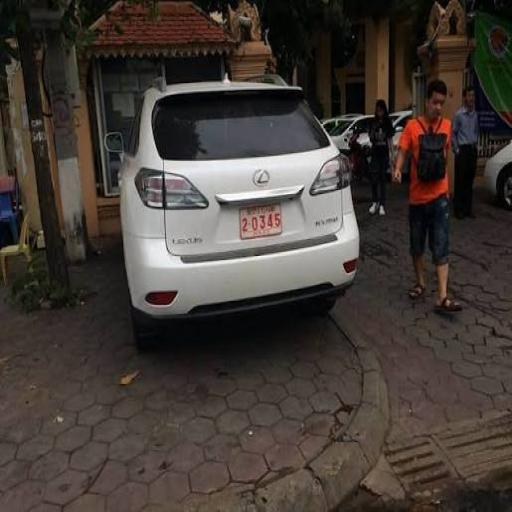Plate Number: (239, 203, 283, 238)
